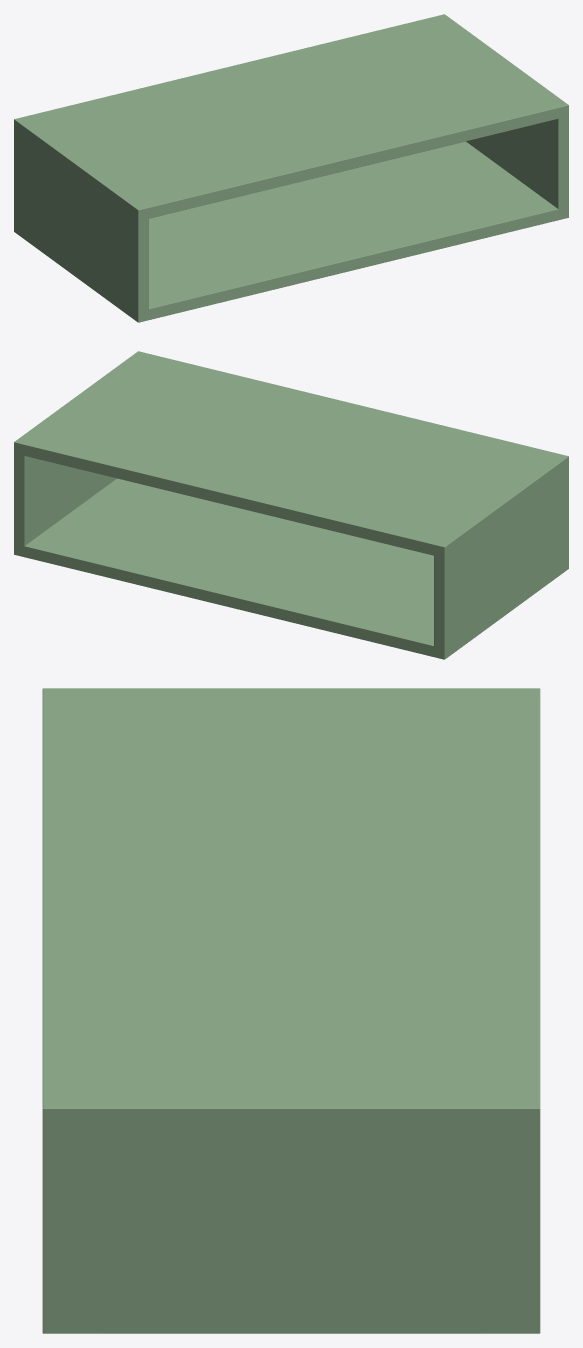
File: MOD-2X05-A-O-SA.glb
3 renders of one model, top to bottom at view 1: azimuth 30°, elevation 25°; view 2: azimuth 150°, elevation 25°; view 3: azimuth 270°, elevation 25°, orthographic. The views are drawn at different scales.
Bounding box in the file's own units: 720 × 180 × 360.
